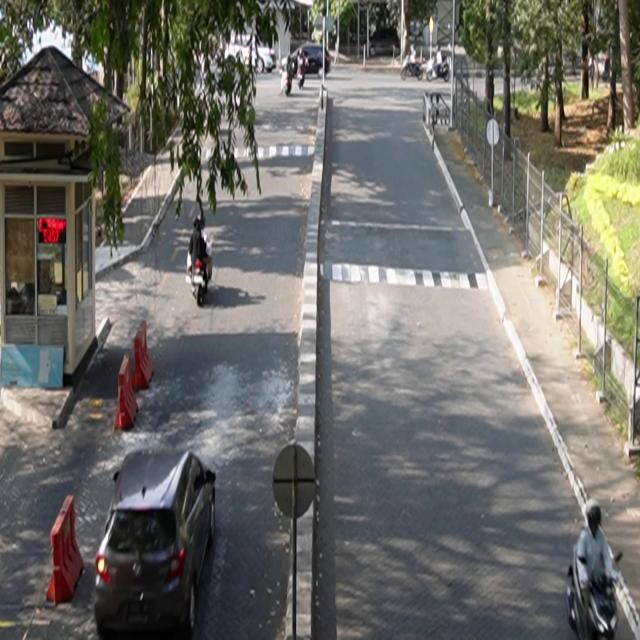car: (95, 448, 217, 638), (288, 43, 331, 78), (365, 28, 401, 58)
